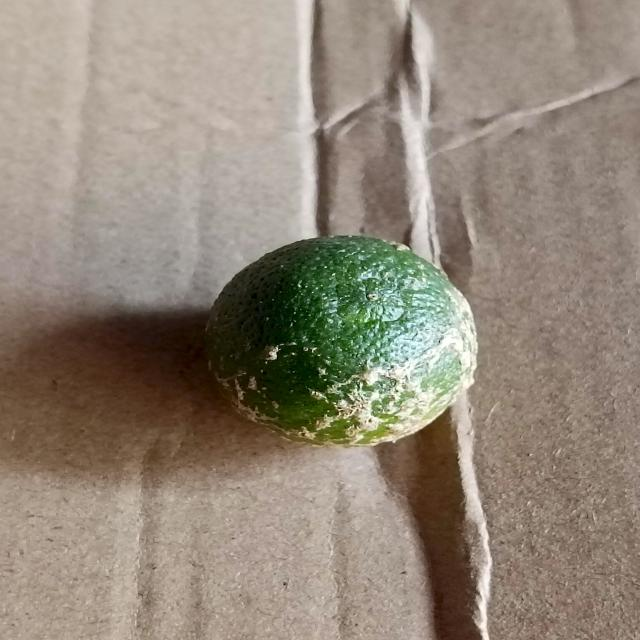scab: (218, 233, 471, 452)
